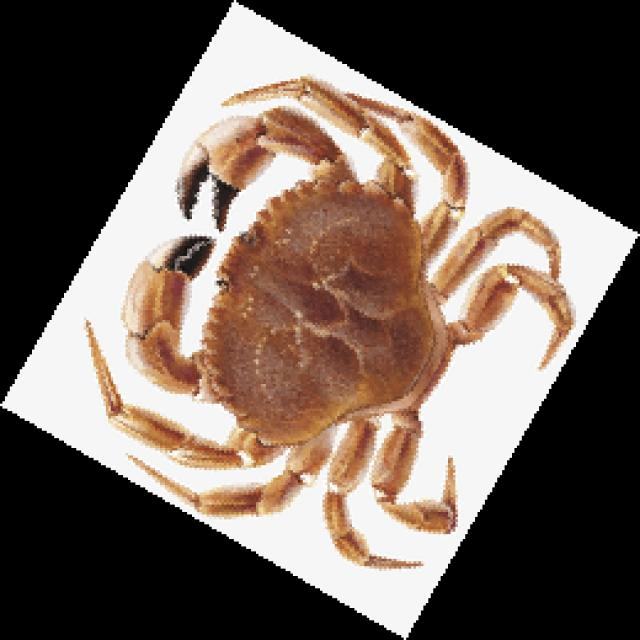Native Jonah crab: (86, 76, 571, 566)
